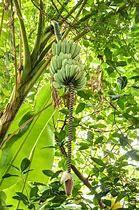banana: (51, 40, 90, 89)
